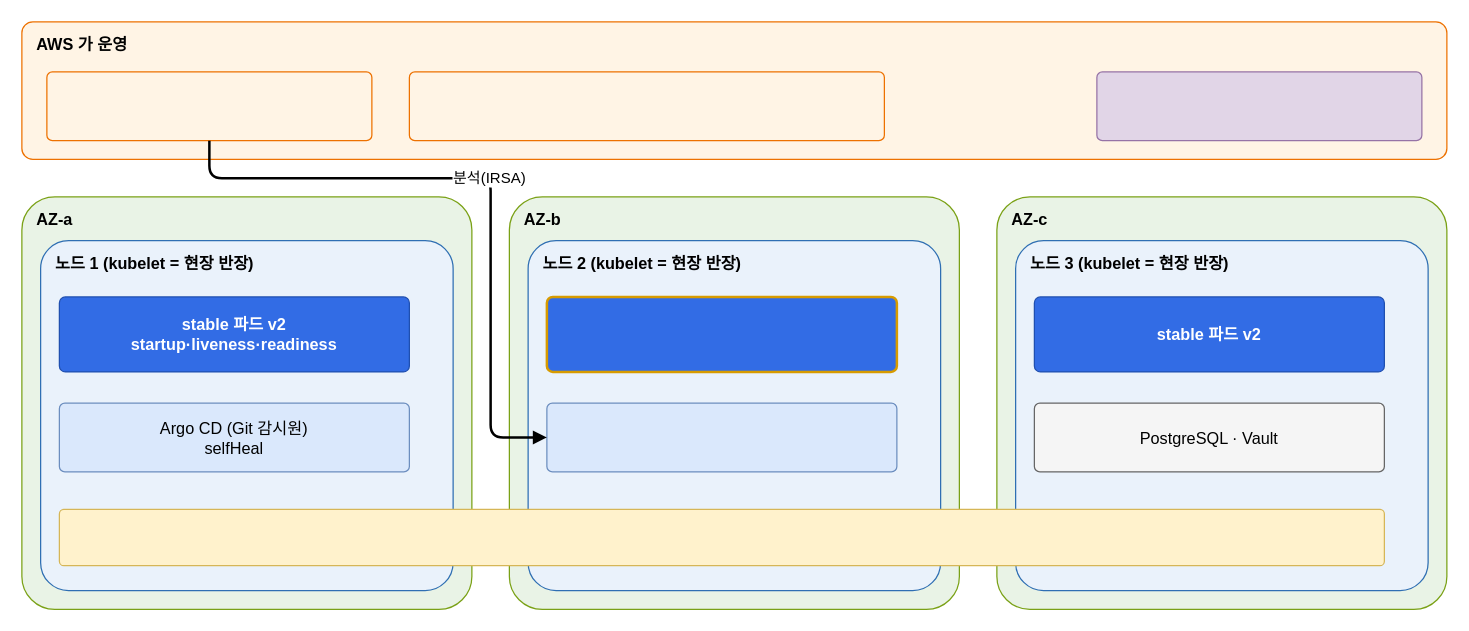
This 1469x631 diagram has some shape labels left out. Each missing label, with the centre of its shape:
"ALB — stable·canary 파드에 파드 수 비율대로 나눠 보냄" goes at point (1259, 106).
"Argo Rollouts 컨트롤러 (카나리 진행·판정)" goes at point (721, 437).
"canary 파드 v3 (50%) 먼저 손님 일부에게" goes at point (721, 333).
"CloudWatch ALB 지표(오류율·응답시간)" goes at point (209, 106).
"PDB: 최소 1개 유지(점검 중에도) · topology spread: AZ 마다 고르게" goes at point (721, 537).
"관리형 노드 그룹 — 자동 복구 (절반 넘게 아프면 멈춤 · 한 번에 1대)" goes at point (646, 106).
